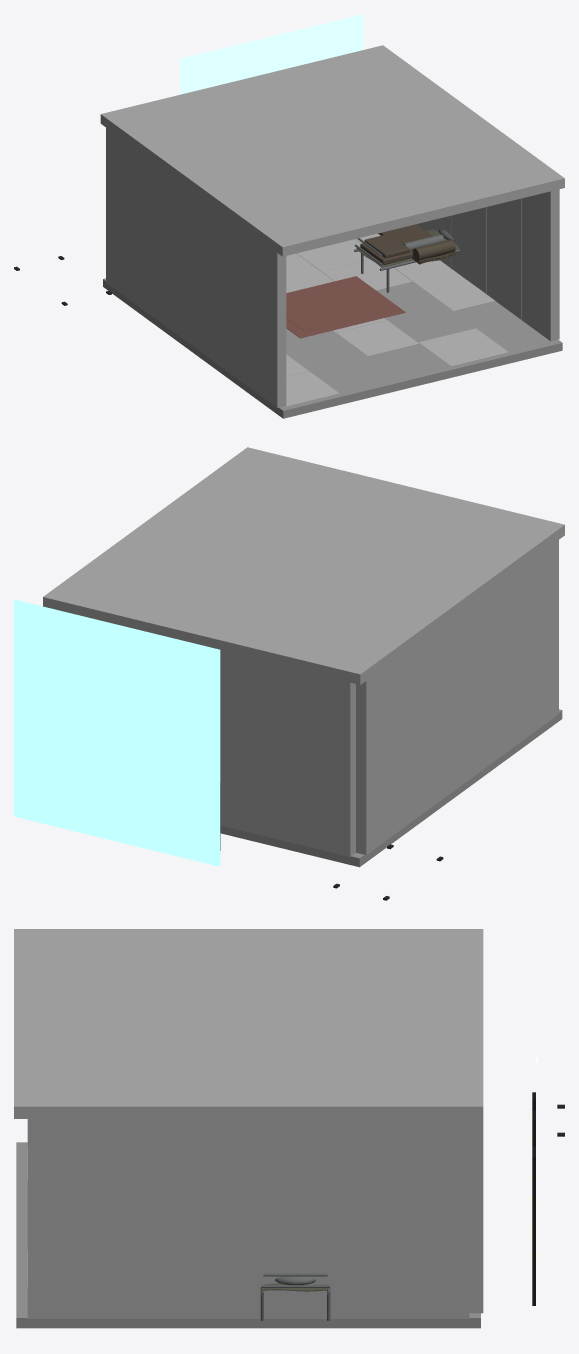
The model's file is safehouse_interior.glb.
3 views of the same model, one above another, from view 1: azimuth 30°, elevation 25°; view 2: azimuth 150°, elevation 25°; view 3: azimuth 270°, elevation 25° (orthographic). The views are drawn at different scales.
Visible parts, largest first — view 1: Safe_concrete, Safe_floor_dark, Safe_floor, Safe_night, Safe_rug, Safe_wool; view 2: Safe_concrete, Safe_night, Safe_floor_dark; view 3: Safe_concrete, Safe_floor_dark, Safe_black, Safe_steel_dark.
Part boxes in pixels (<box>): Safe_concrete: <box>100,45,564,407</box>; Safe_floor_dark: <box>103,239,562,418</box>; Safe_floor: <box>286,233,507,406</box>; Safe_night: <box>180,14,363,94</box>; Safe_rug: <box>286,276,405,338</box>; Safe_wool: <box>360,224,455,264</box>; Safe_concrete: <box>43,447,564,856</box>; Safe_night: <box>14,599,220,866</box>; Safe_floor_dark: <box>220,709,562,867</box>; Safe_concrete: <box>14,929,483,1318</box>; Safe_floor_dark: <box>16,1142,480,1328</box>; Safe_black: <box>532,1092,535,1305</box>; Safe_steel_dark: <box>260,1273,330,1320</box>.
Size of the model in its own units: 6.88 by 3.66 by 7.34.
Materials: 55 (6 with a texture image).
